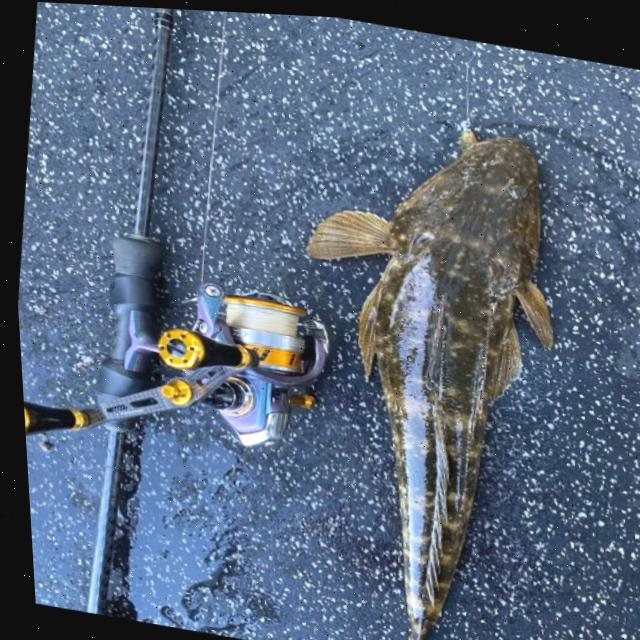Flathead: (244, 84, 605, 640)
